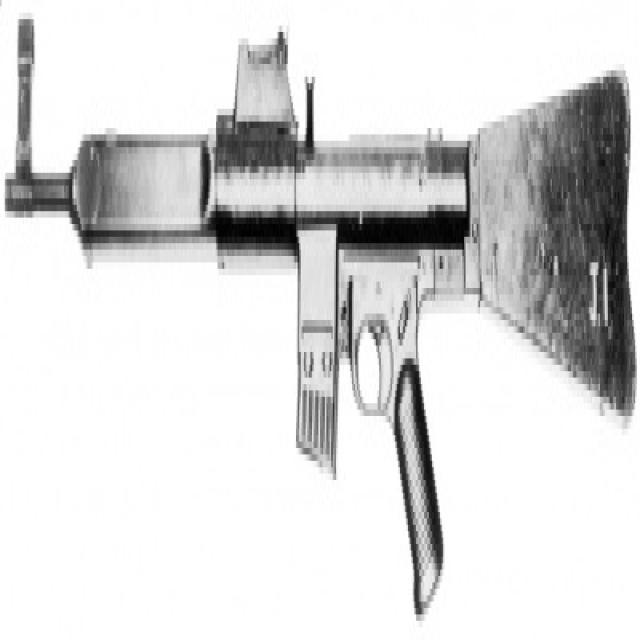rifle: (2, 7, 640, 640)
